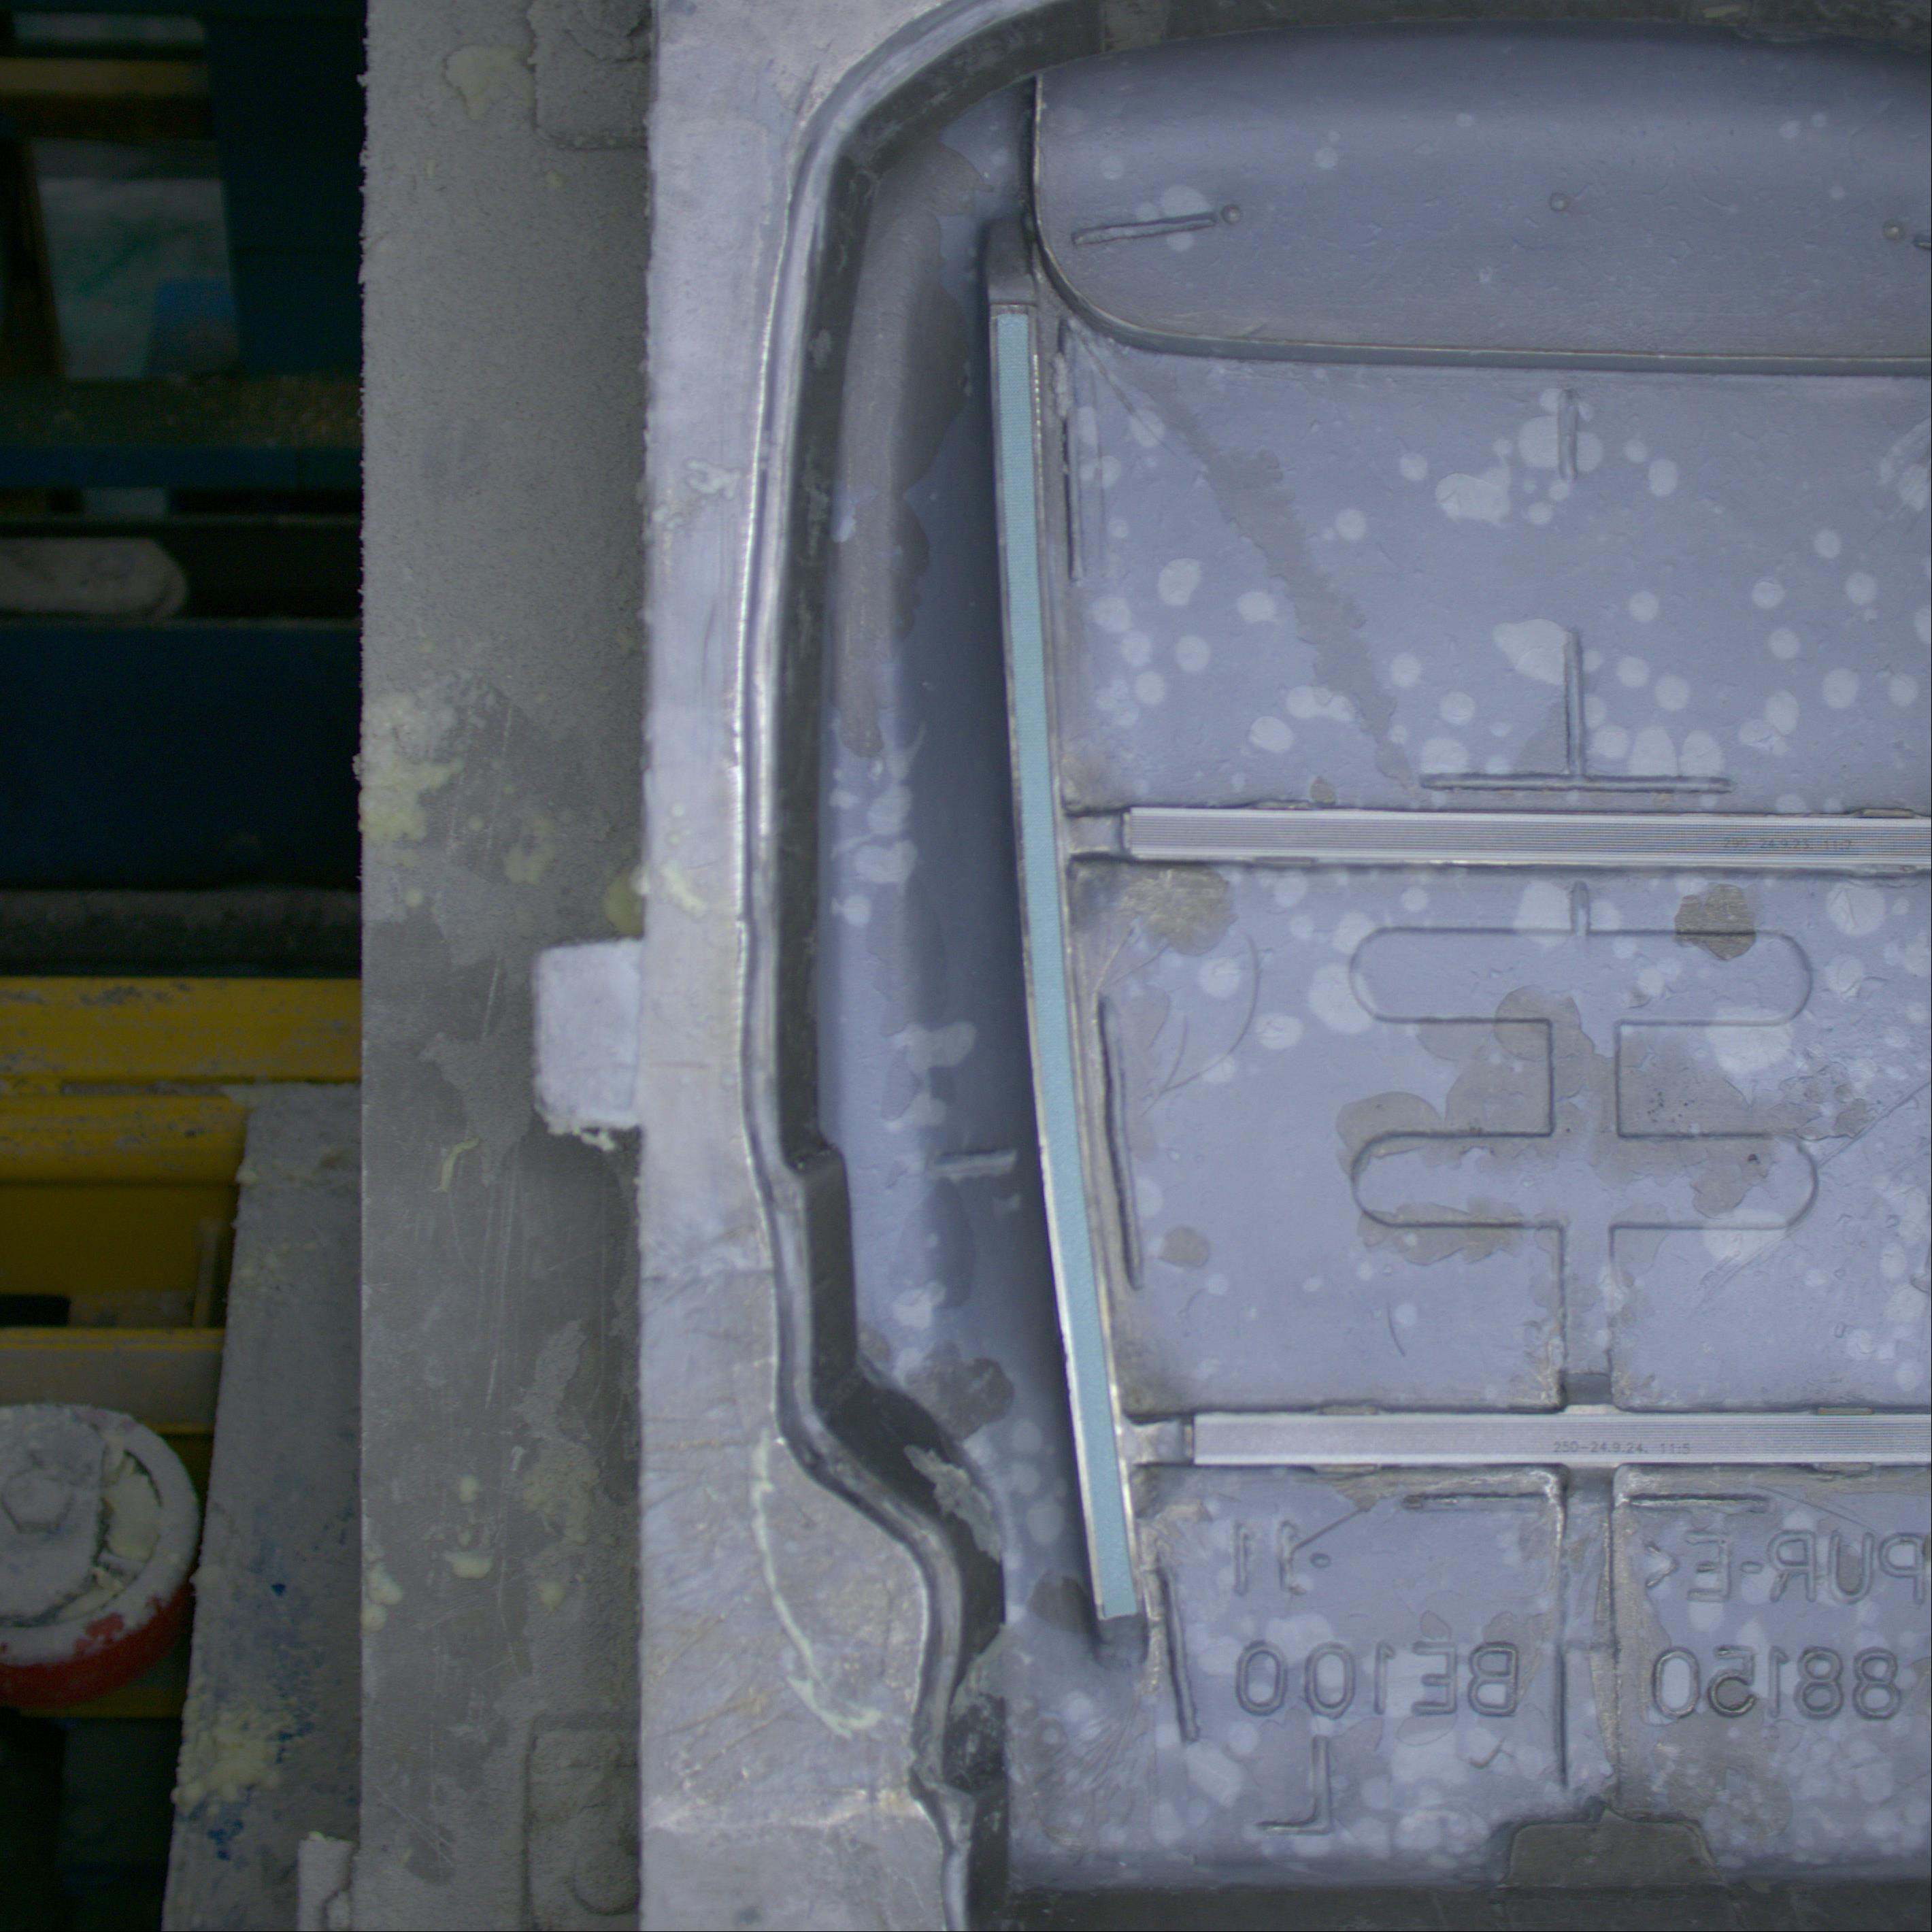Mold: (729, 0, 1932, 1932)
